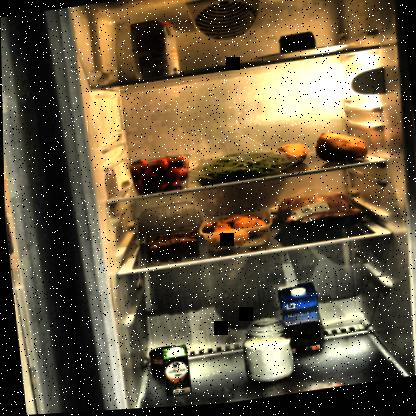cheese: (277, 35, 318, 58)
chicken: (268, 189, 368, 244)
corn: (147, 346, 182, 381)
green_beans: (190, 145, 306, 188)
heavy_cream: (159, 346, 191, 398)
milk: (275, 283, 325, 361)
potato: (196, 215, 271, 256)
shrimp: (142, 230, 198, 262)
strawberries: (127, 153, 196, 198)
sweet_potato: (314, 128, 370, 170), (279, 142, 311, 167)
